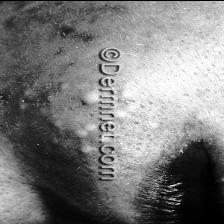Non-Cancerous Skin Condition: (75, 119, 98, 137), (80, 92, 99, 102), (75, 144, 93, 153), (56, 80, 72, 90)
